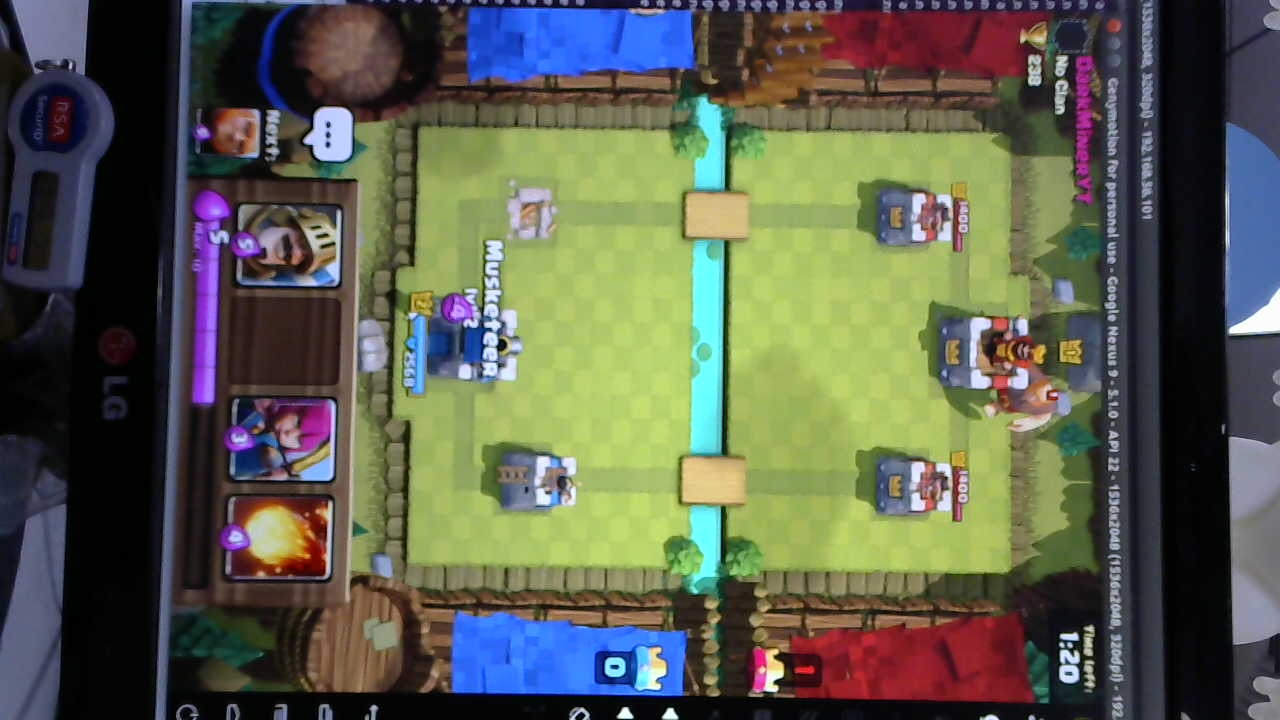arena: (496, 448, 581, 513)
darena: (505, 184, 557, 243)
earena: (870, 452, 956, 516), (874, 189, 955, 246)
eking: (932, 313, 1040, 392)
giant: (983, 364, 1060, 426)
king: (421, 303, 518, 386)
